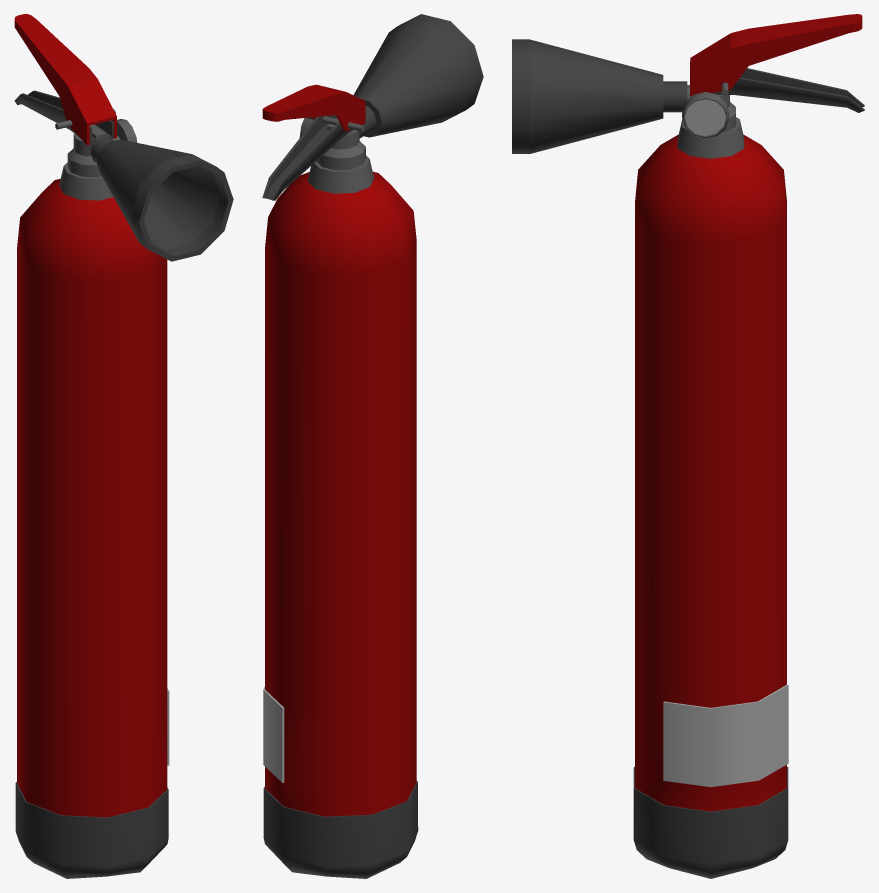
File: ExtinguiserCR.fbx
3 views of the same model, side by side, from view 1: azimuth 30°, elevation 25°; view 2: azimuth 150°, elevation 25°; view 3: azimuth 270°, elevation 25° (orthographic). The views are drawn at different scales.
Visible parts, largest first — view 1: ExtinguiserC_LP; view 2: ExtinguiserC_LP; view 3: ExtinguiserC_LP.
Part boxes in pixels (box(x1,y1,x2,y2)): ExtinguiserC_LP: box(14, 14, 233, 878); ExtinguiserC_LP: box(262, 14, 483, 878); ExtinguiserC_LP: box(512, 14, 864, 878).
Size of the model in its own units: 12.96 by 72.95 by 28.03.
